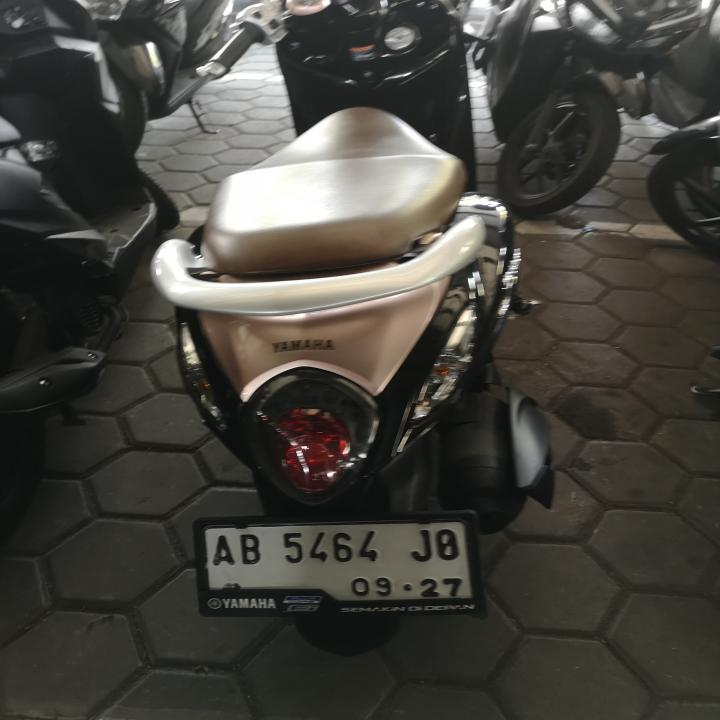plate: (200, 518, 476, 605)
